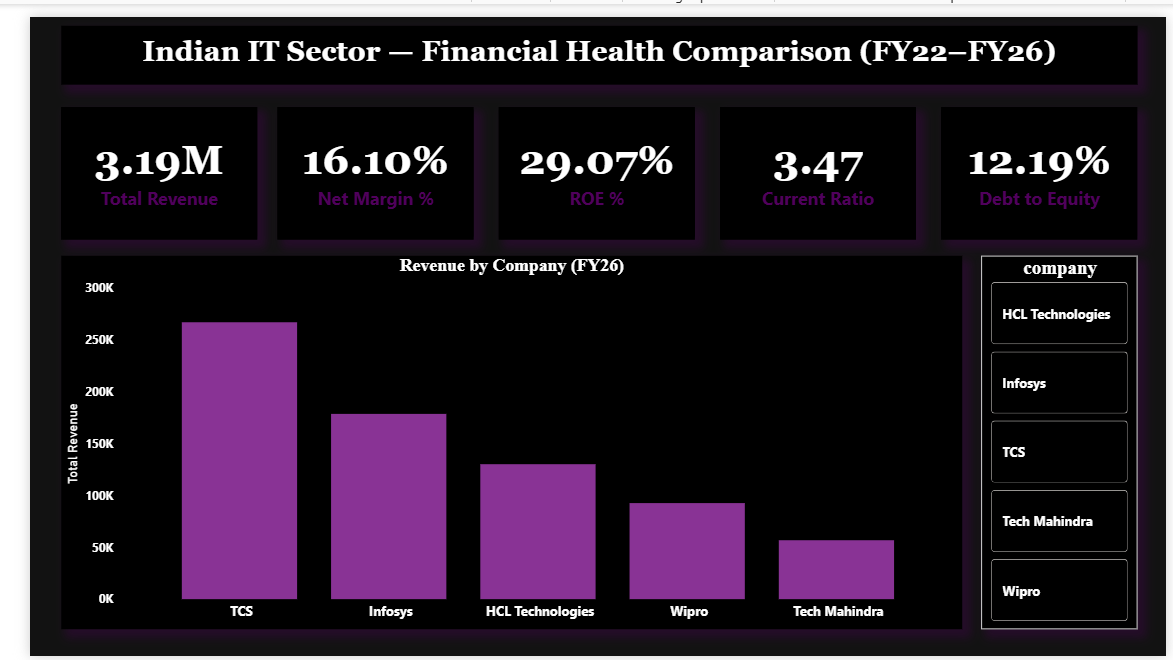

The dashboard page shown, as its layout file describes it:
{"tool":"powerbi","page":{"name":"Overview","canvas":[1280,720],"ordinal":0},"visuals":[{"type":"textbox","box":[35.2,9.9,1212.7,66.2],"z":0},{"type":"cardVisual","fields":{"Data":["Measures (2).Total Revenue"]},"box":[35.2,101.4,221.1,149.3],"z":1000},{"type":"cardVisual","fields":{"Data":["Measures (2).Net Margin %"]},"box":[278.9,101.4,221.1,149.3],"z":2000},{"type":"cardVisual","fields":{"Data":["Measures (2).ROE %"]},"box":[528.2,101.4,221.1,149.3],"z":3000},{"type":"cardVisual","fields":{"Data":["Measures (2).Current Ratio"]},"box":[777.5,101.4,221.1,149.3],"z":4000},{"type":"cardVisual","fields":{"Data":["Measures (2).Debt to Equity"]},"box":[1026.8,101.4,221.1,149.3],"z":5000},{"type":"clusteredColumnChart","title":"Revenue by Company (FY26)","fields":{"Category":["public it_financials.company"],"Y":["Measures (2).Total Revenue"]},"box":[35.2,269,1015.5,421.1],"z":6000},{"type":"advancedSlicerVisual","fields":{"Values":["public it_financials.company"]},"box":[1071.8,269,176.1,421.1],"z":7000}]}

Visuals, with their boxes in screenshot pixels (x1, y1, x2, y2), scaled from the page's 1280x720 canvas onto the 1173x660 screenshot:
textbox: x1=32, y1=9, x2=1144, y2=70
cardVisual - Measures (2).Total Revenue: x1=32, y1=93, x2=235, y2=230
cardVisual - Measures (2).Net Margin %: x1=256, y1=93, x2=458, y2=230
cardVisual - Measures (2).ROE %: x1=484, y1=93, x2=687, y2=230
cardVisual - Measures (2).Current Ratio: x1=713, y1=93, x2=915, y2=230
cardVisual - Measures (2).Debt to Equity: x1=941, y1=93, x2=1144, y2=230
"Revenue by Company (FY26)" clusteredColumnChart: x1=32, y1=247, x2=963, y2=633
advancedSlicerVisual - public it_financials.company: x1=982, y1=247, x2=1144, y2=633
